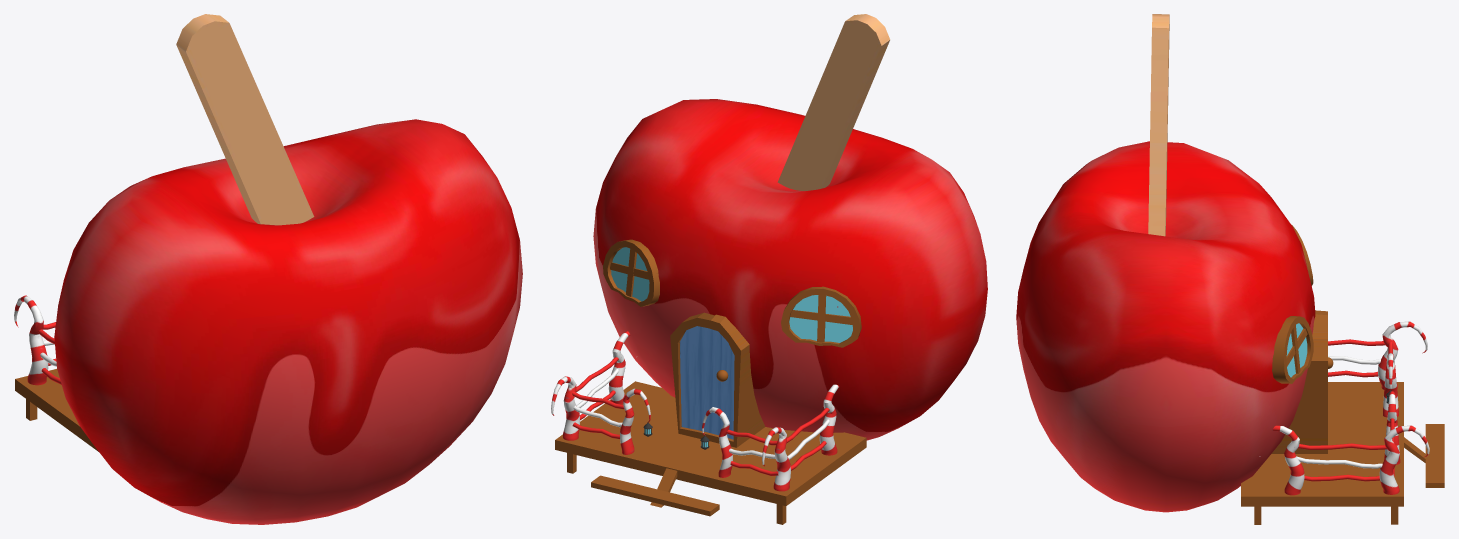
The model's file is CherryHouse.fbx.
3 views of the same model, side by side, from view 1: azimuth 30°, elevation 25°; view 2: azimuth 150°, elevation 25°; view 3: azimuth 270°, elevation 25° (orthographic). The views are drawn at different scales.
Visible parts, largest first — view 1: pSphere4, pCube14, pCube1, pCylinder15; view 2: pSphere4, pCube1, pCube10, pCube14, polySurface8, polySurface4, pCylinder15, pCylinder14, pCube9, polySurface11, polySurface15; view 3: pSphere4, pCube1, pCube14, pCube10, pCylinder14, polySurface4, pCylinder15, pCube9, polySurface15, polySurface11.
Part boxes in pixels (bbox=[...]): pSphere4: bbox=[54, 119, 522, 524]; pCube14: bbox=[176, 14, 314, 225]; pCube1: bbox=[15, 369, 98, 451]; pCylinder15: bbox=[14, 295, 61, 385]; pSphere4: bbox=[593, 99, 987, 440]; pCube1: bbox=[555, 381, 866, 505]; pCube10: bbox=[670, 312, 765, 447]; pCube14: bbox=[777, 14, 890, 190]; polySurface8: bbox=[781, 286, 861, 347]; polySurface4: bbox=[603, 239, 659, 306]; pCylinder15: bbox=[762, 384, 839, 491]; pCylinder14: bbox=[551, 331, 637, 440]; pCube9: bbox=[591, 475, 719, 516]; polySurface11: bbox=[572, 388, 650, 454]; polySurface15: bbox=[702, 407, 778, 477]; pSphere4: bbox=[1016, 141, 1315, 512]; pCube1: bbox=[1241, 382, 1403, 506]; pCube14: bbox=[1148, 14, 1169, 236]; pCube10: bbox=[1271, 310, 1327, 453]; pCylinder14: bbox=[1259, 425, 1429, 495]; polySurface4: bbox=[1272, 316, 1313, 383]; pCylinder15: bbox=[1328, 321, 1427, 389]; pCube9: bbox=[1425, 424, 1444, 487]; polySurface15: bbox=[1383, 342, 1398, 417]; polySurface11: bbox=[1384, 391, 1400, 476].
Bounding box in the file's own units: 6.51 × 7.02 × 6.49.
